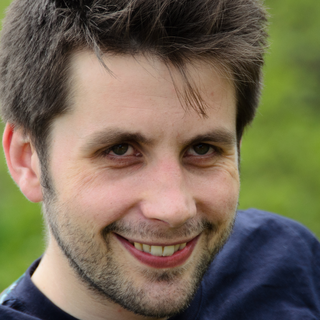eye: (178, 135, 230, 168), (90, 138, 148, 166)
